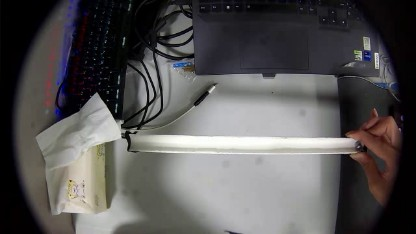gangzhu: (353, 140, 362, 149)
